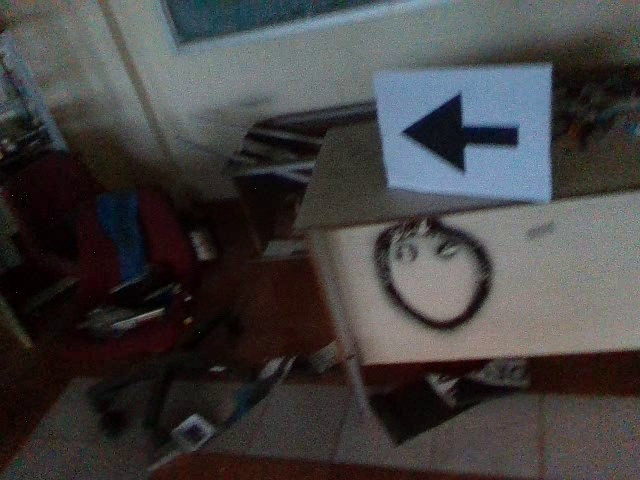Left: (394, 86, 527, 179)
